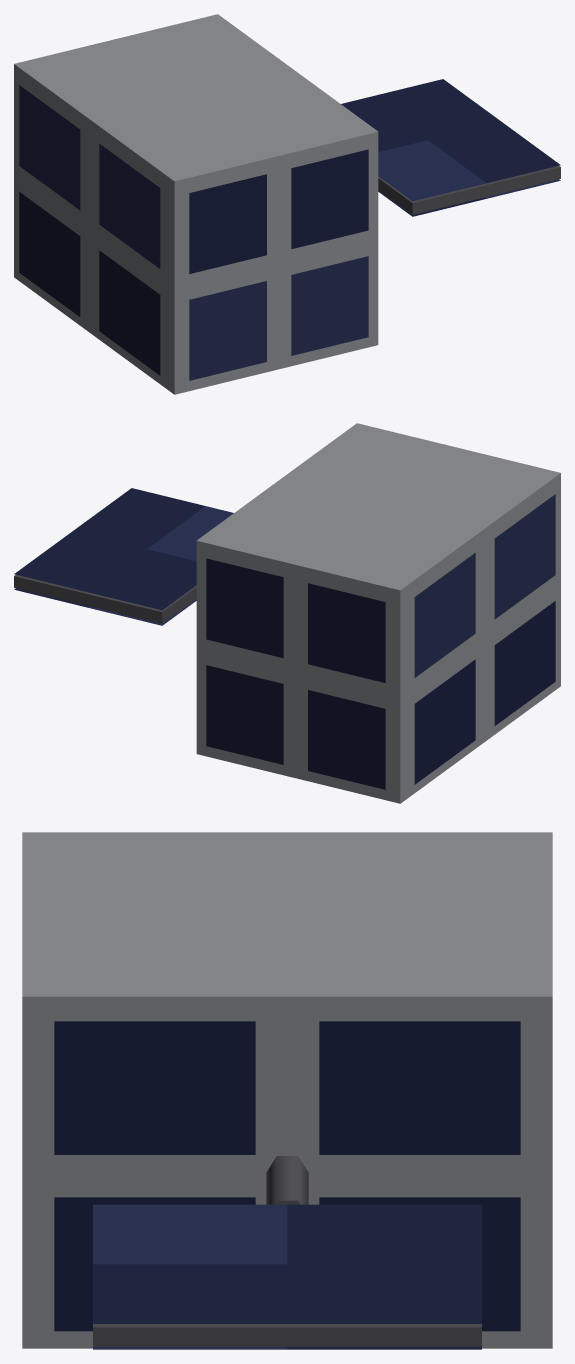
File: gen-box-s.obj
3 renders of one model, top to bottom at view 1: azimuth 30°, elevation 25°; view 2: azimuth 150°, elevation 25°; view 3: azimuth 270°, elevation 25°, orthographic. The views are drawn at different scales.
Visible parts, largest first — view 1: gen-box-s; view 2: gen-box-s; view 3: gen-box-s.
Part boxes in pixels (x1,y1,x2,y2): gen-box-s: [14, 14, 560, 394]; gen-box-s: [14, 423, 560, 803]; gen-box-s: [22, 832, 552, 1349].
Size of the model in its own units: 1.11 by 0.55 by 0.774.
